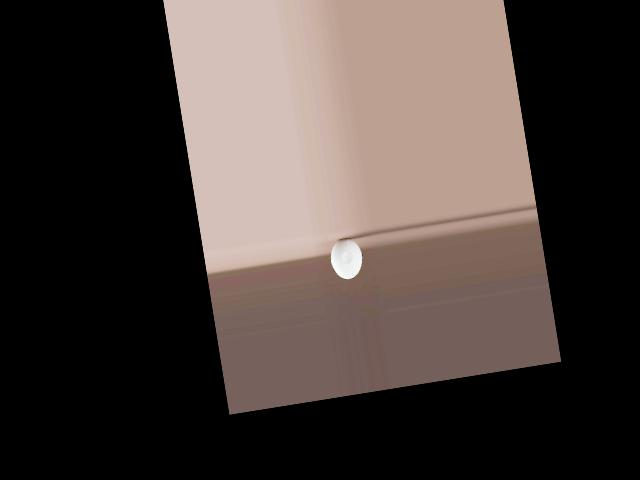egg: (328, 236, 365, 281)
